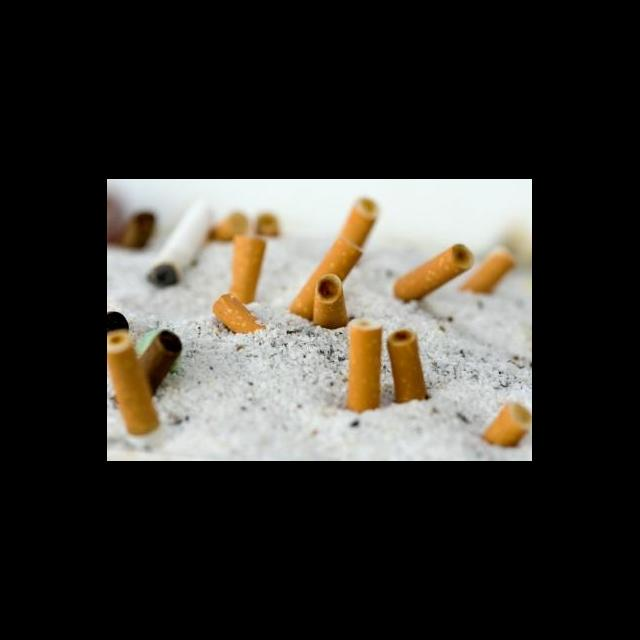Cigarette Butt: (147, 193, 221, 288), (289, 233, 365, 322), (107, 328, 162, 438), (393, 242, 476, 304), (344, 316, 384, 414), (386, 328, 431, 403), (136, 329, 184, 398), (457, 245, 518, 295), (229, 234, 268, 306), (212, 292, 267, 336), (483, 400, 532, 448), (340, 195, 381, 249), (312, 274, 349, 329), (211, 208, 251, 242), (256, 211, 281, 238)
